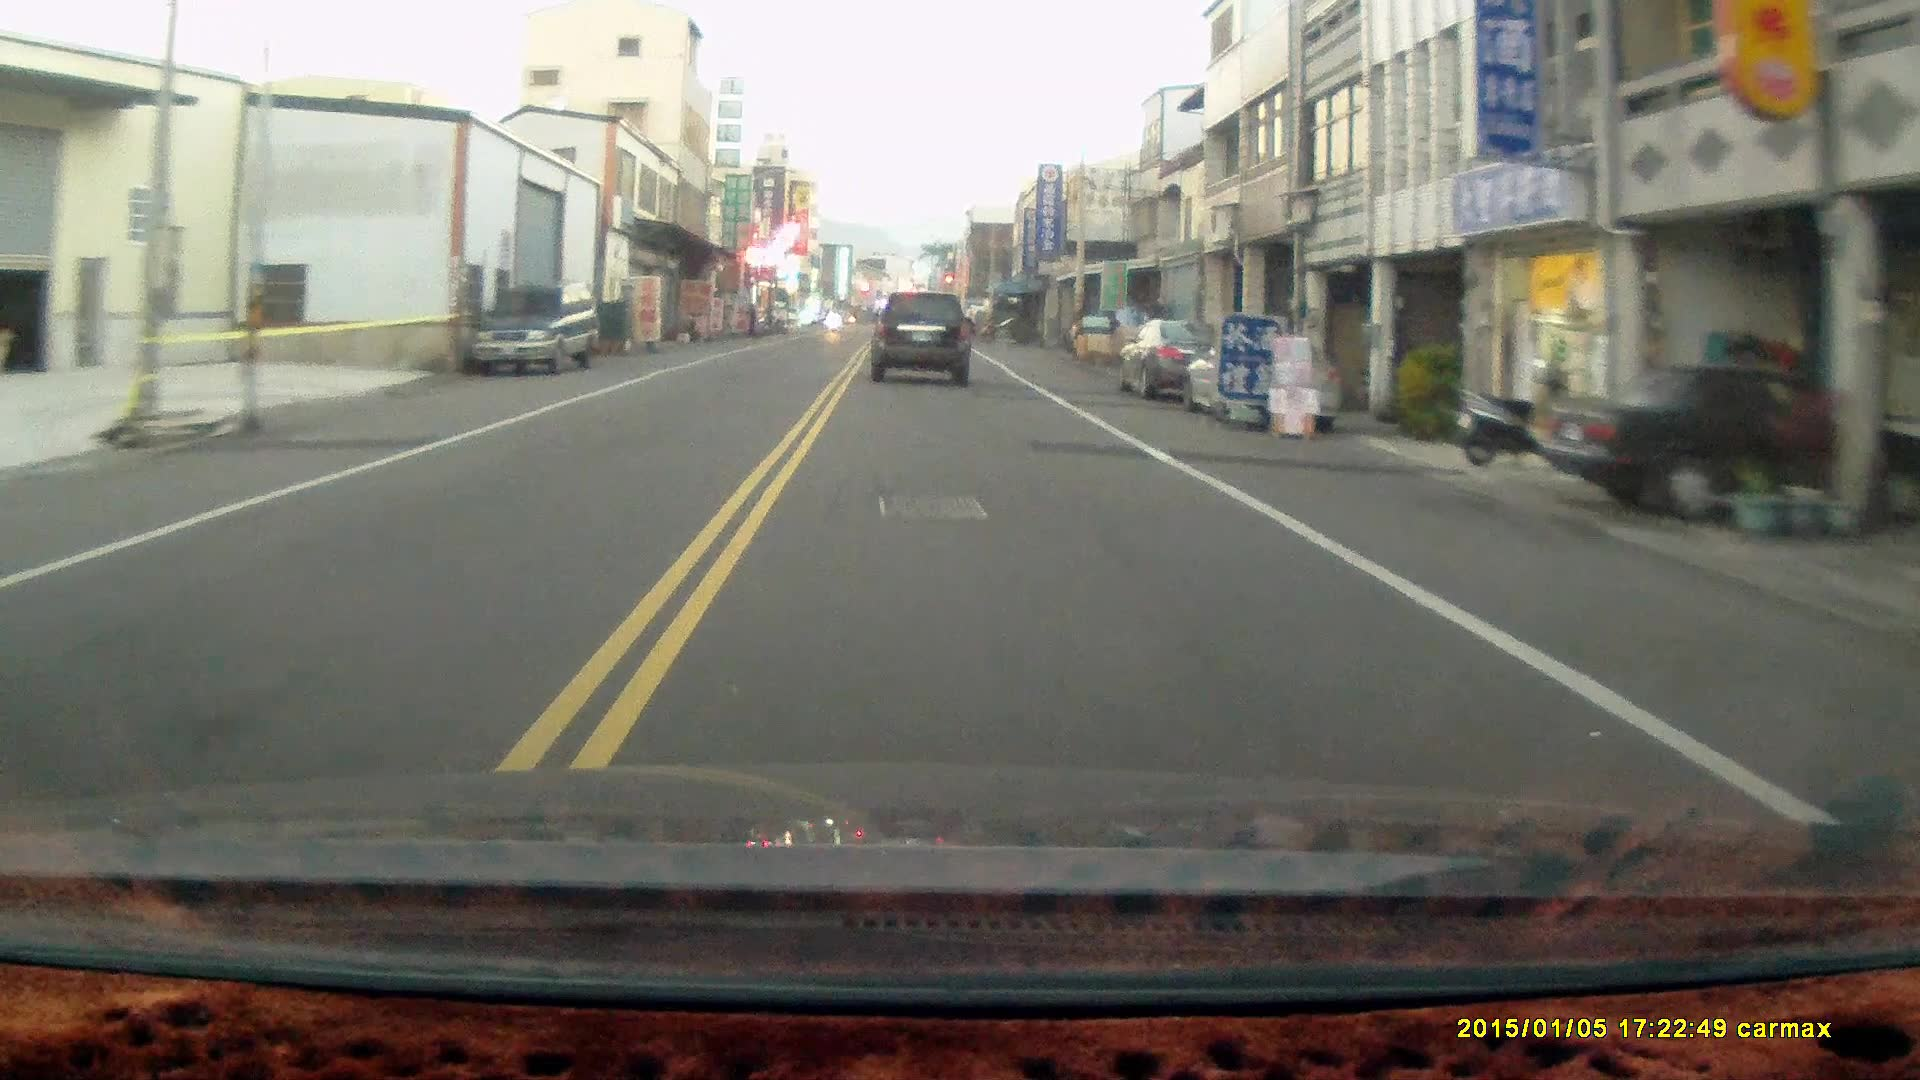vehicle: (1542, 367, 1912, 529), (1183, 334, 1348, 433), (469, 281, 597, 378), (869, 294, 975, 390), (1120, 318, 1238, 398)
